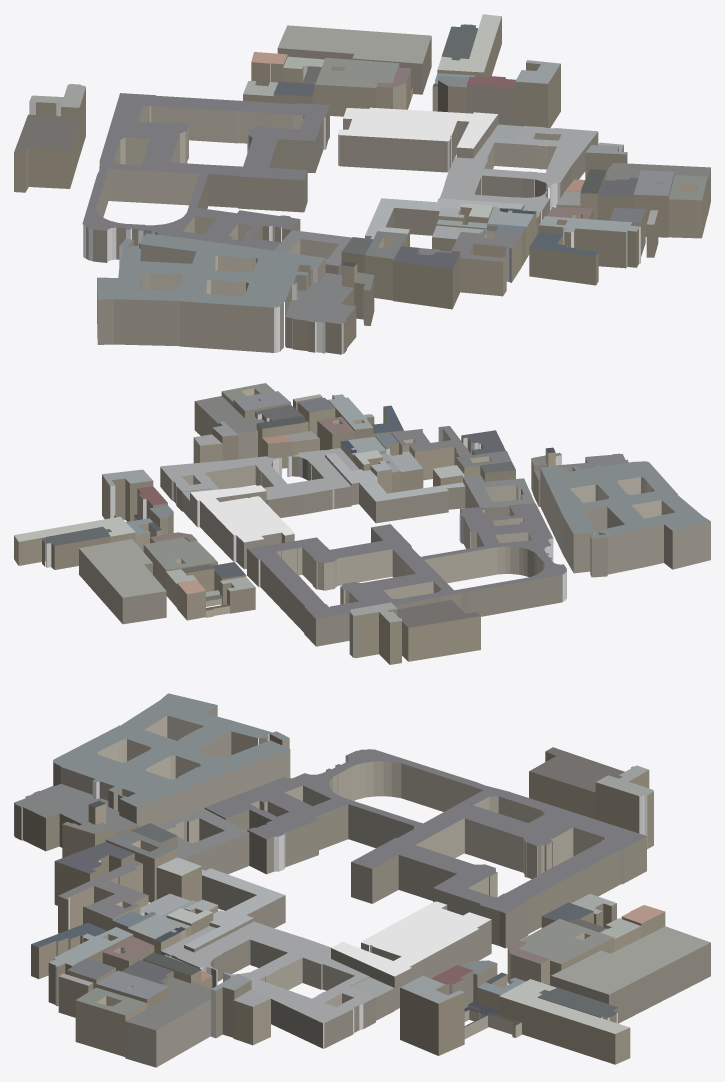
3 views of the same model, one above another, from view 1: azimuth 30°, elevation 25°; view 2: azimuth 150°, elevation 25°; view 3: azimuth 270°, elevation 25° (orthographic). The views are drawn at different scales.
Parts seen in each view (by area): view 1: tuile; view 2: tuile; view 3: tuile.
Part boxes in pixels (x1=…): tuile: x1=14, y1=14, x2=710, y2=354; tuile: x1=14, y1=383, x2=710, y2=664; tuile: x1=14, y1=693, x2=710, y2=1067.
Size of the model in its own units: 327 by 26.81 by 297.
